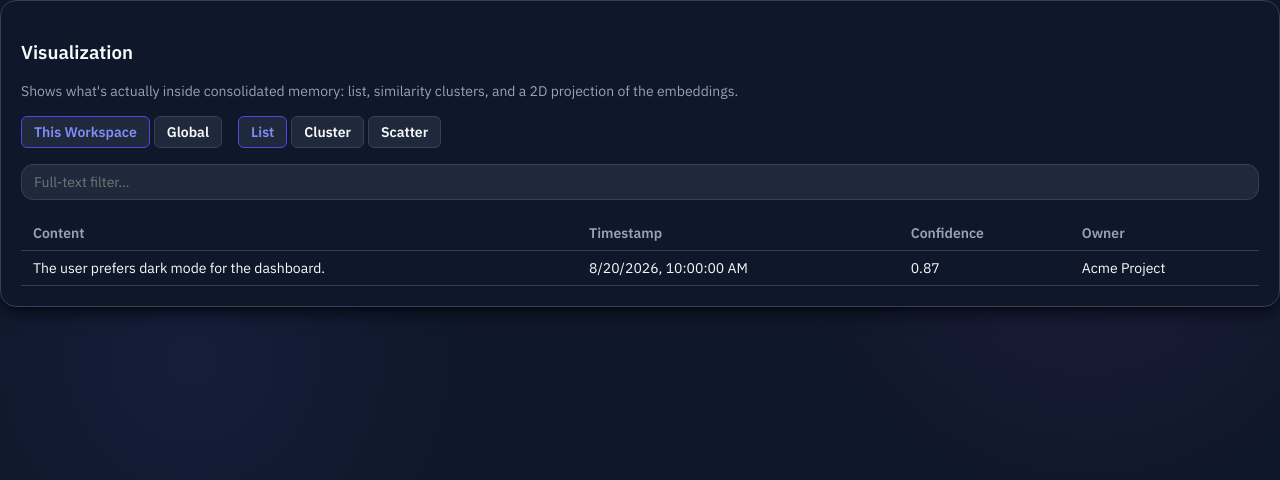
Test: MemoryVisualizationSection › switching to Cluster view fetches the projection once
expect the row with test id "memory-viz-row-entry-1" is shown: met, box [21,251,1259,286]
Step 1. Click the button with test id "memory-viz-view-cluster" → click(328, 132), box [291,116,364,148]
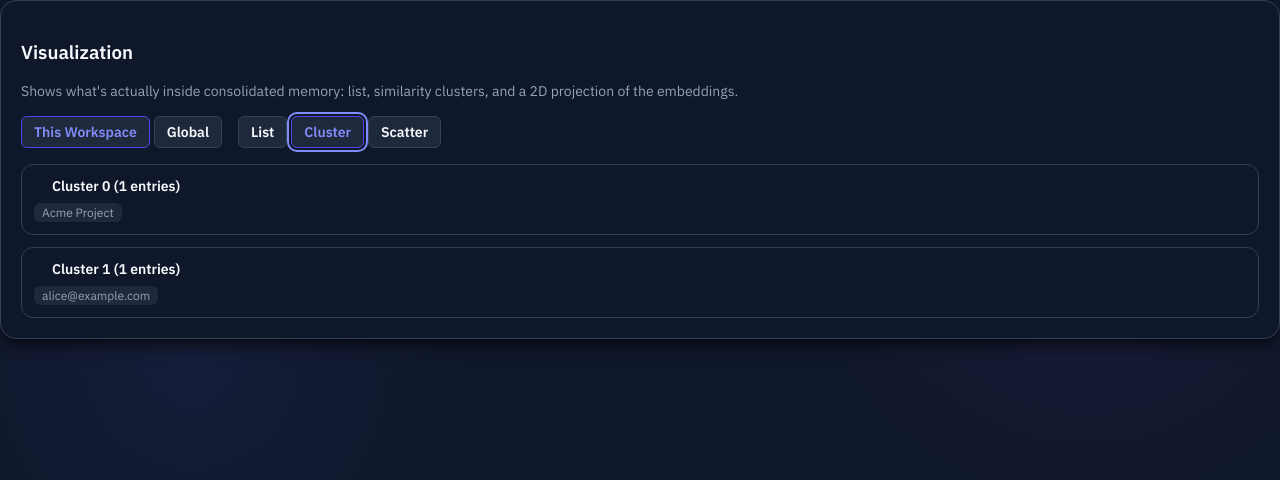
expect the element with test id "memory-viz-cluster-group-0" is shown: met, box [21,164,1259,235]
expect the element with test id "memory-viz-cluster-group-1" is shown: met, box [21,247,1259,318]
